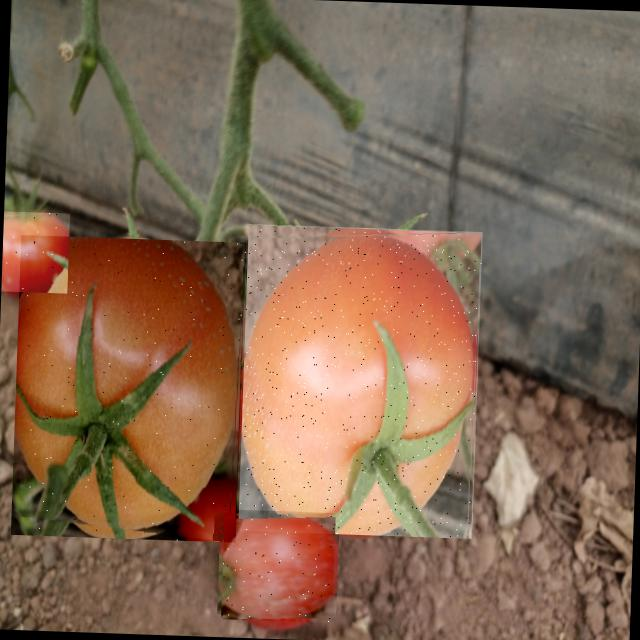Ripe Tomato: (238, 224, 482, 538), (11, 235, 246, 542), (220, 508, 336, 622), (0, 211, 70, 293)
